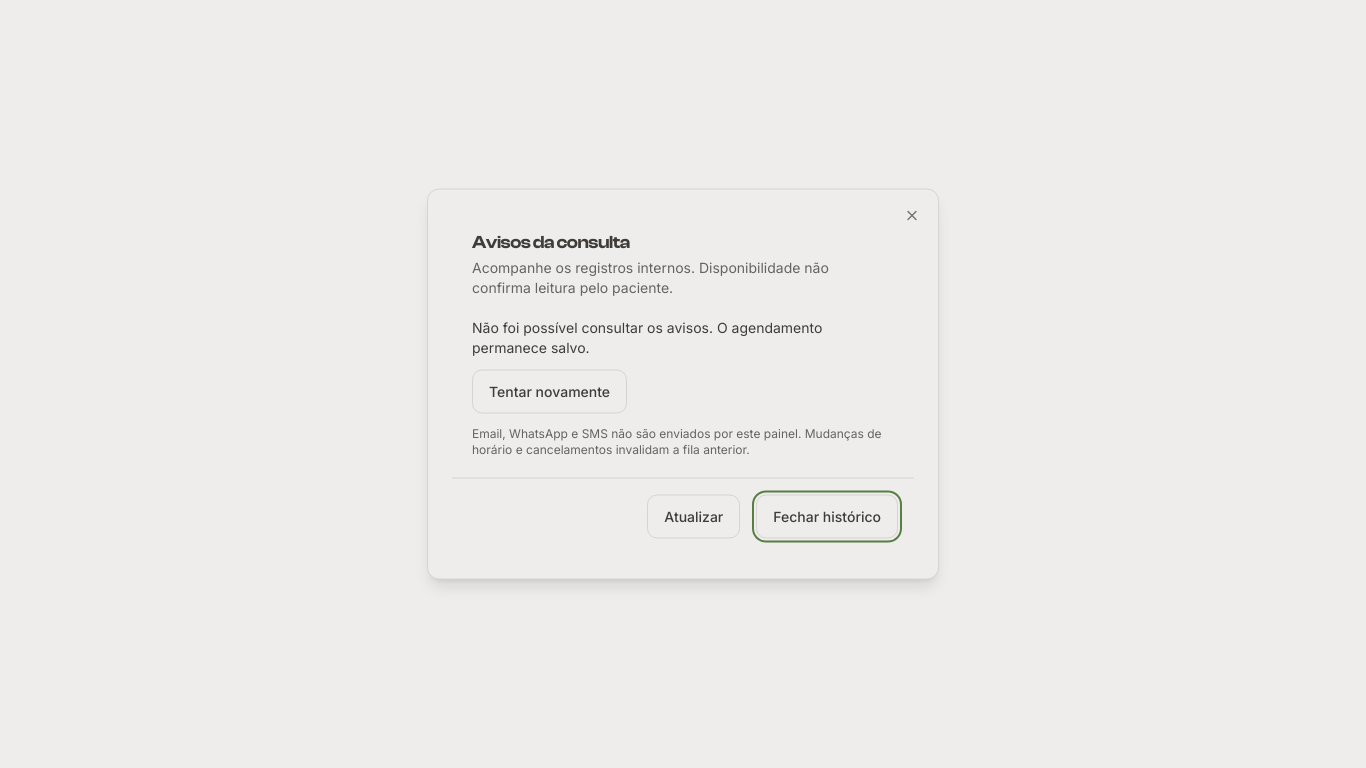
notice history recovery and identity › offers a read retry without resubmitting the booking and never claims reading
Click the button "Tentar novamente" at coordinates (550, 392), box [472,370,627,414]
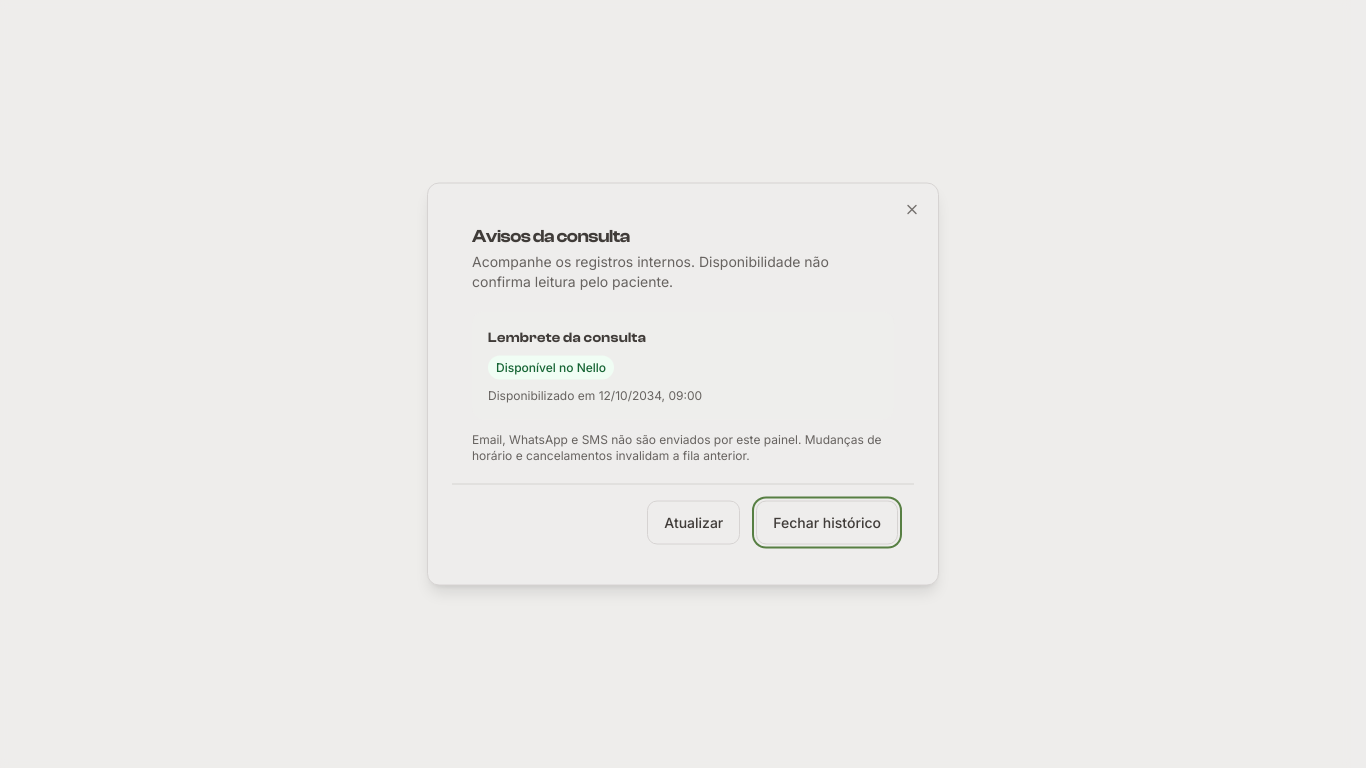
Check: the text "Disponível no Nello" is shown, box [488,356,614,380]
